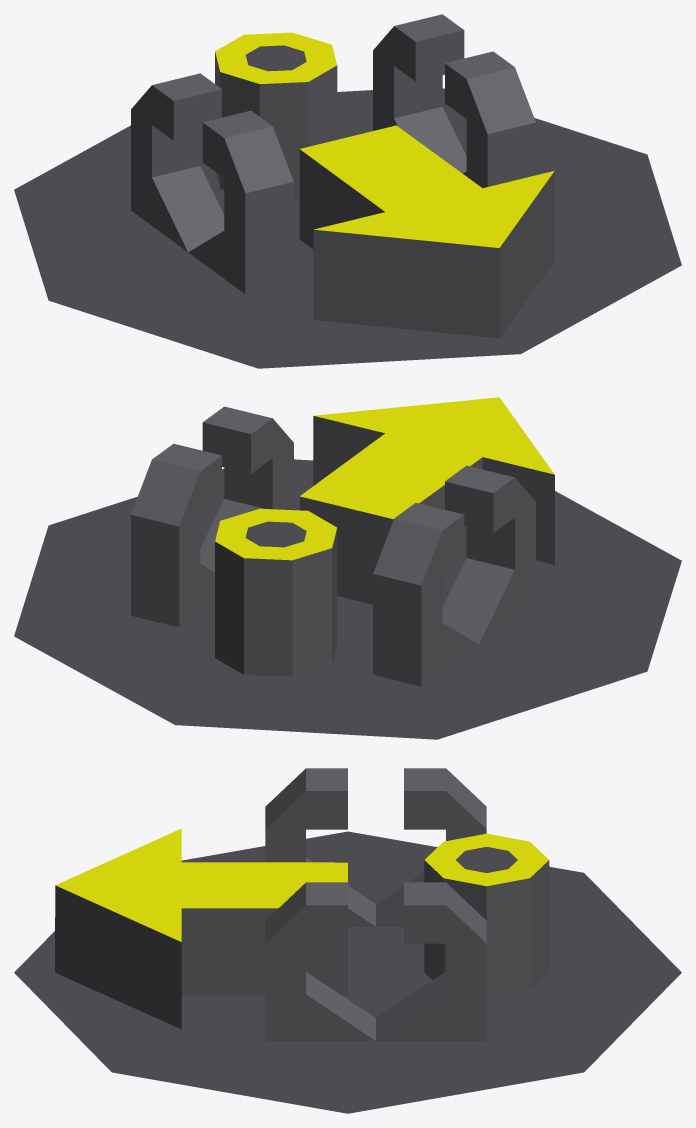
Rendered from Msh_Socket_Male_V7.FBX.
3 renders of one model, top to bottom at view 1: azimuth 30°, elevation 25°; view 2: azimuth 150°, elevation 25°; view 3: azimuth 270°, elevation 25°, orthographic. The views are drawn at different scales.
Visible parts, largest first — view 1: Msh_Socket_MaleV7; view 2: Msh_Socket_MaleV7; view 3: Msh_Socket_MaleV7.
Boxes of the visible parts, <box> form: Msh_Socket_MaleV7: <box>14,14,681,368</box>; Msh_Socket_MaleV7: <box>14,397,681,739</box>; Msh_Socket_MaleV7: <box>14,768,681,1113</box>.
Bounding box in the file's own units: 0.0272 × 0.0272 × 0.0061.
